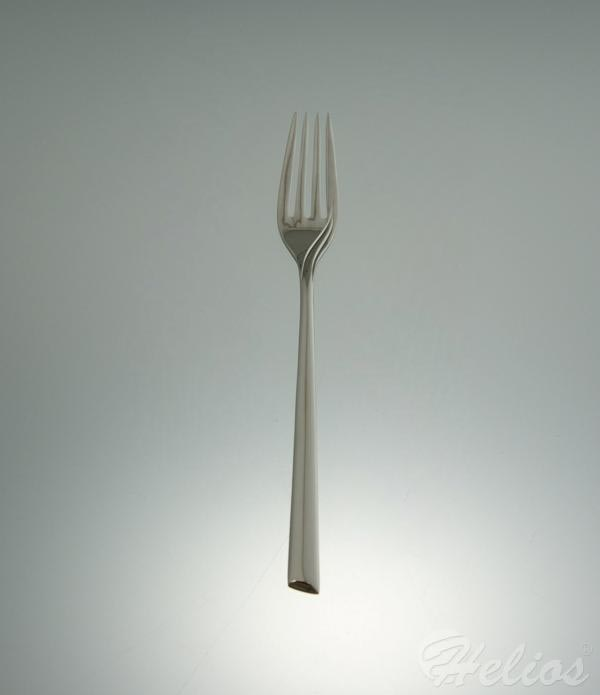Widelec: (273, 107, 345, 268)
